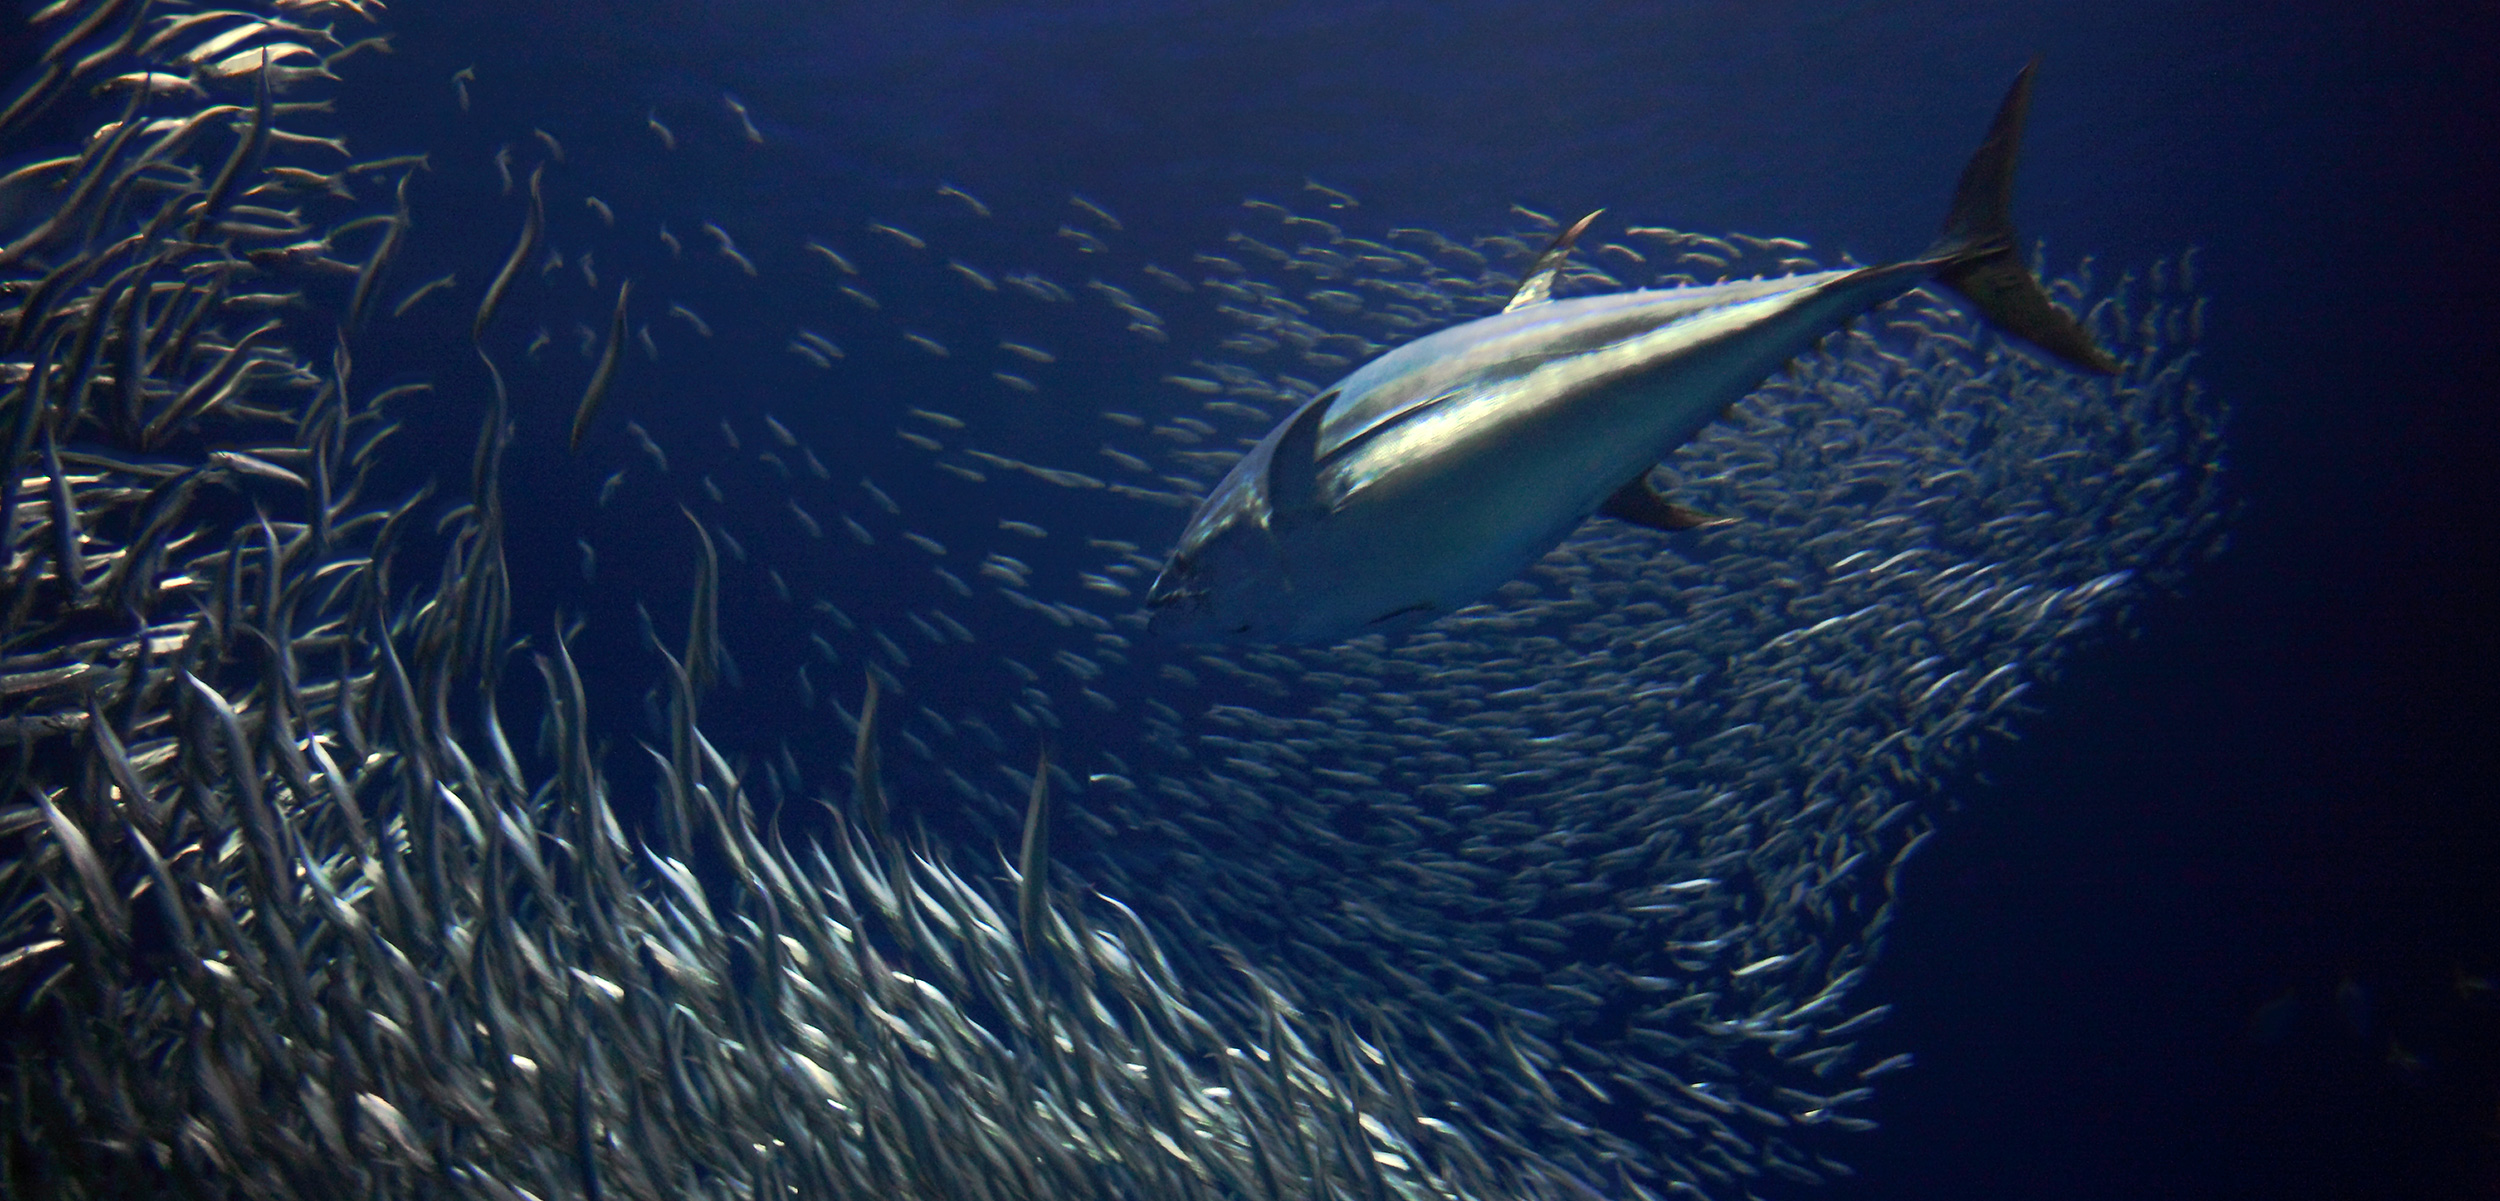Bluefina Tuna: (1134, 62, 2124, 665)
